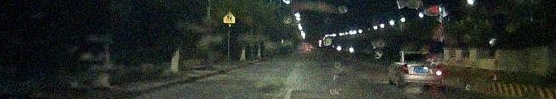L_light: (401, 65, 408, 74)
R_light: (434, 65, 442, 76)
T_light: (414, 54, 421, 55)
night-no: (401, 51, 442, 88)
